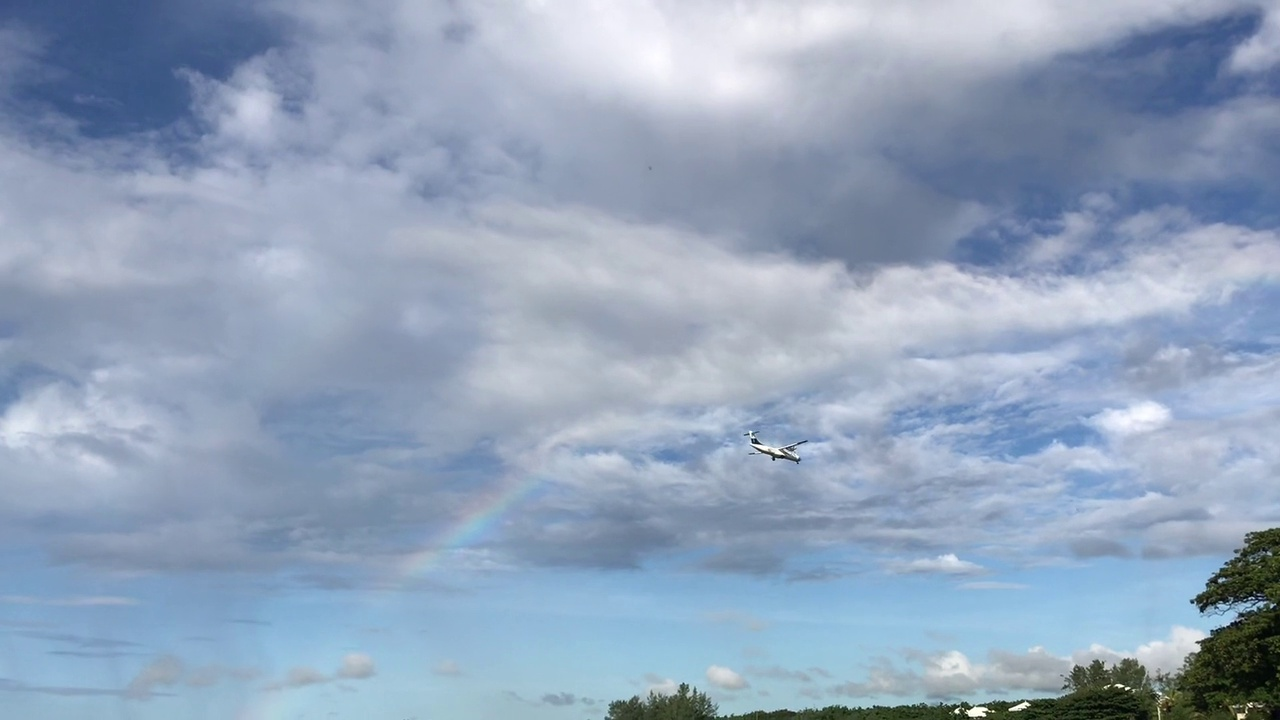plane: (742, 428, 807, 465)
